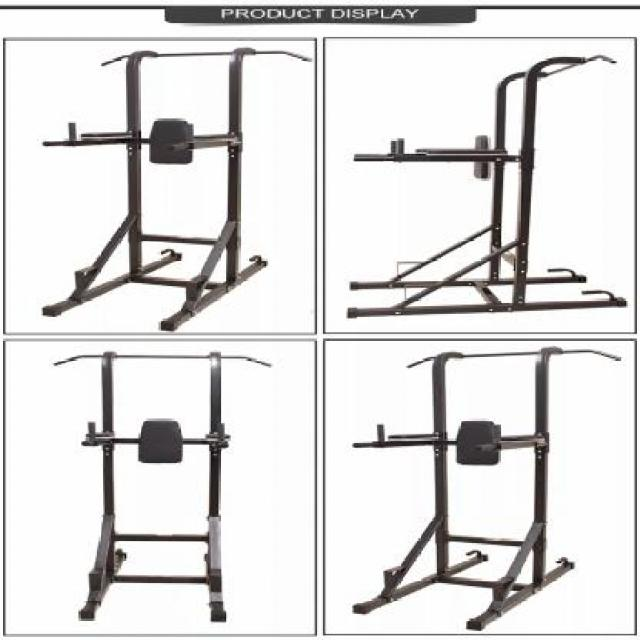chinning dipping: (349, 348, 625, 626), (43, 46, 309, 331), (349, 52, 628, 322), (54, 349, 275, 623)
